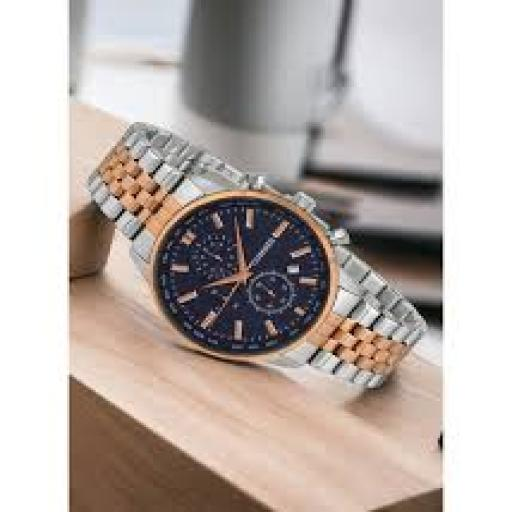KolSaati: (87, 104, 422, 445)
